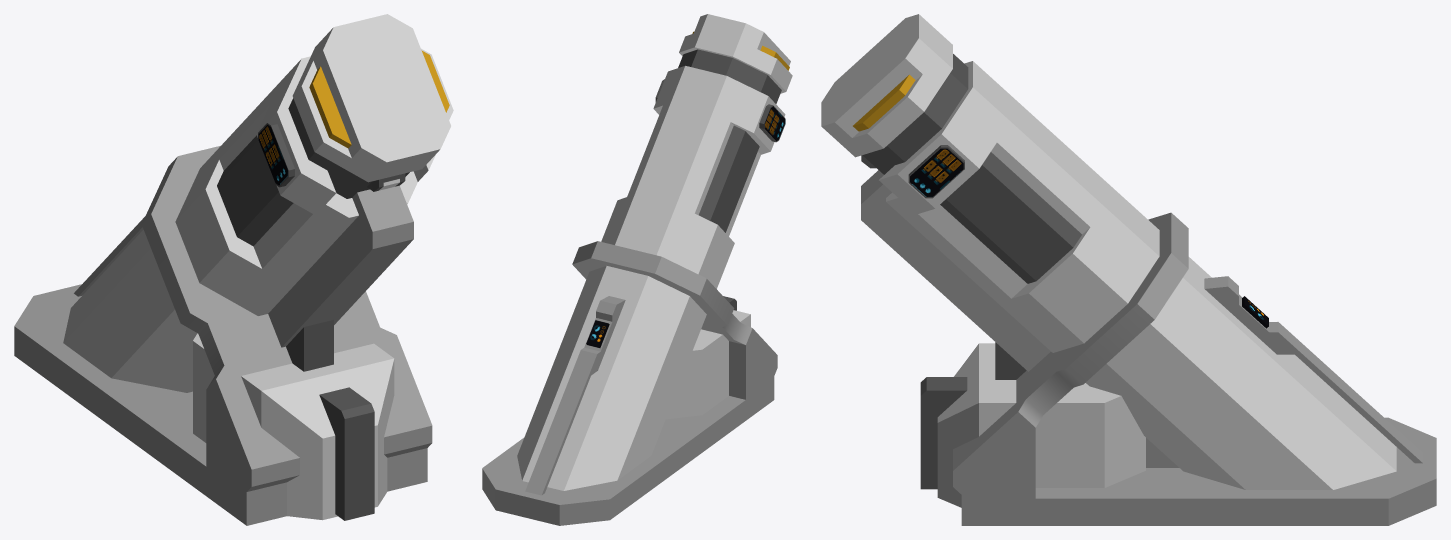
File: SM_Machine_5.fbx
3 renders of one model, left to right at view 1: azimuth 30°, elevation 25°; view 2: azimuth 150°, elevation 25°; view 3: azimuth 270°, elevation 25°, orthographic. The views are drawn at different scales.
Parts seen in each view (by area): view 1: SM_Machine_5; view 2: SM_Machine_5; view 3: SM_Machine_5.
Boxes of the visible parts, bbox=[...] form: SM_Machine_5: bbox=[14, 14, 453, 525]; SM_Machine_5: bbox=[482, 14, 792, 525]; SM_Machine_5: bbox=[821, 14, 1436, 525].
Size of the model in its own units: 77.15 by 204 by 248.
